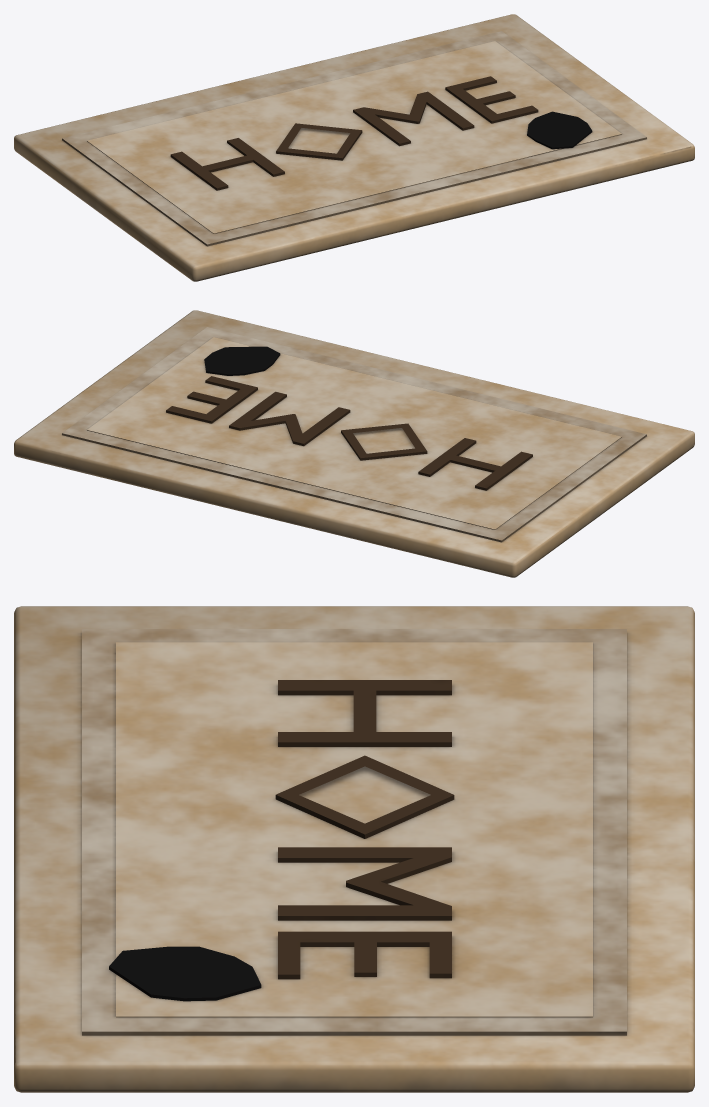
Rendered from welcome_mat.fbx.
The picture shows the model from 3 angles, top to bottom: view 1: azimuth 30°, elevation 25°; view 2: azimuth 150°, elevation 25°; view 3: azimuth 270°, elevation 25°; orthographic projection. The views are drawn at different scales.
Visible parts, largest first — view 1: Body; view 2: Body; view 3: Body.
Part boxes in pixels (x1,y1,x2,y2): Body: (14, 14, 694, 281); Body: (14, 310, 694, 577); Body: (14, 606, 694, 1092).
Bounding box in the file's own units: 3.2 × 0.13 × 2.
Materials: 1 (1 with a texture image).
